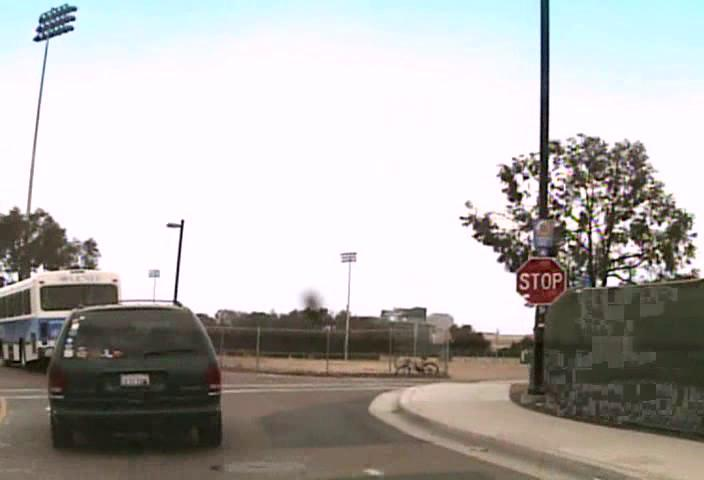stop: (515, 256, 566, 305)
